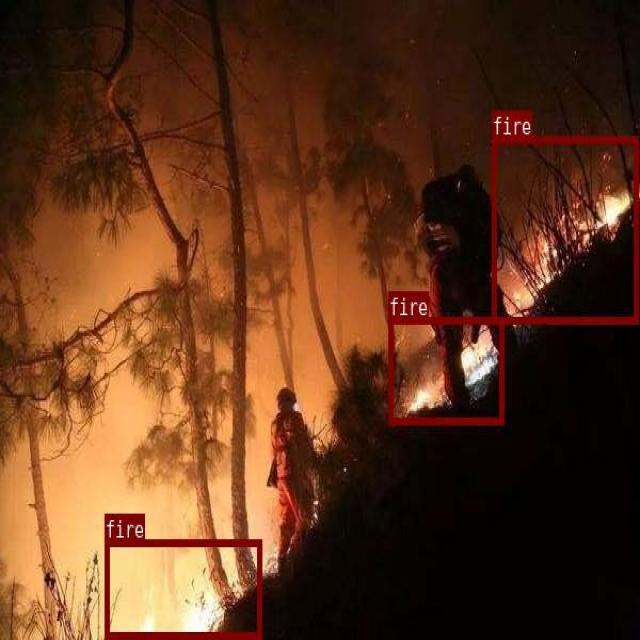fire: (491, 135, 638, 323), (104, 539, 260, 637), (388, 316, 504, 423)
